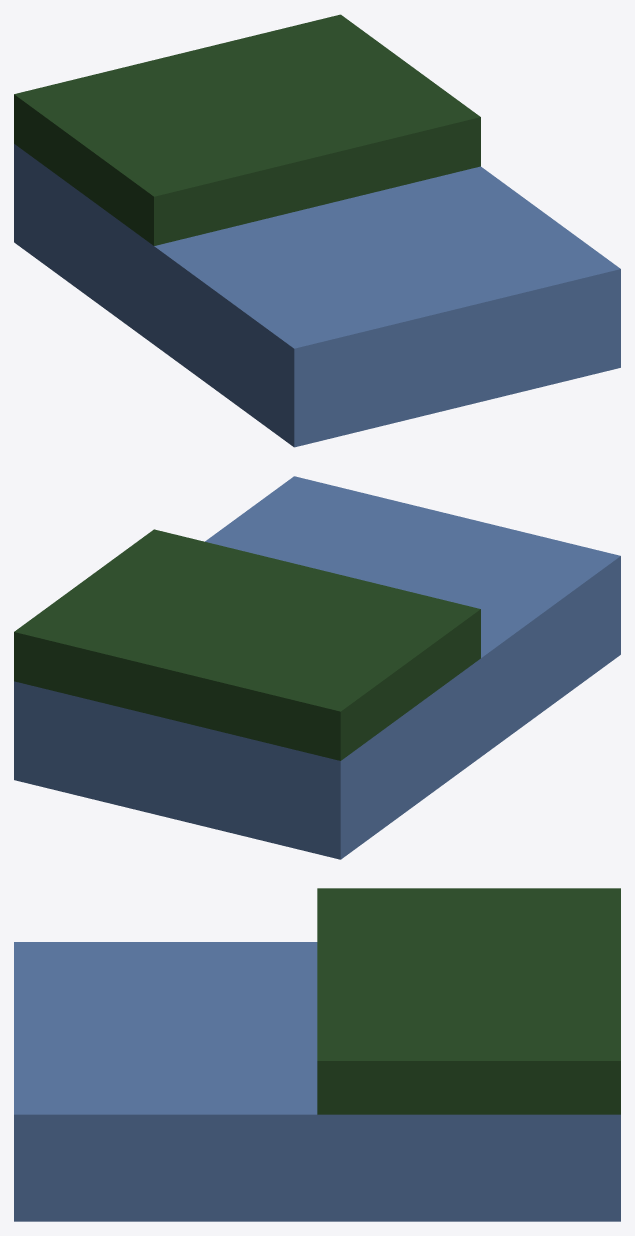
Rendered from quad_30.glb.
3 renders of one model, top to bottom at view 1: azimuth 30°, elevation 25°; view 2: azimuth 150°, elevation 25°; view 3: azimuth 270°, elevation 25°, orthographic. The views are drawn at different scales.
Parts seen in each view (by area): view 1: quad_30; view 2: quad_30; view 3: quad_30.
Boxes of the visible parts, x1,y1,x2,y2 form: quad_30: [14, 14, 620, 447]; quad_30: [14, 476, 620, 859]; quad_30: [14, 888, 620, 1221].
Bounding box in the file's own units: 0.577 × 0.25 × 0.8571.
